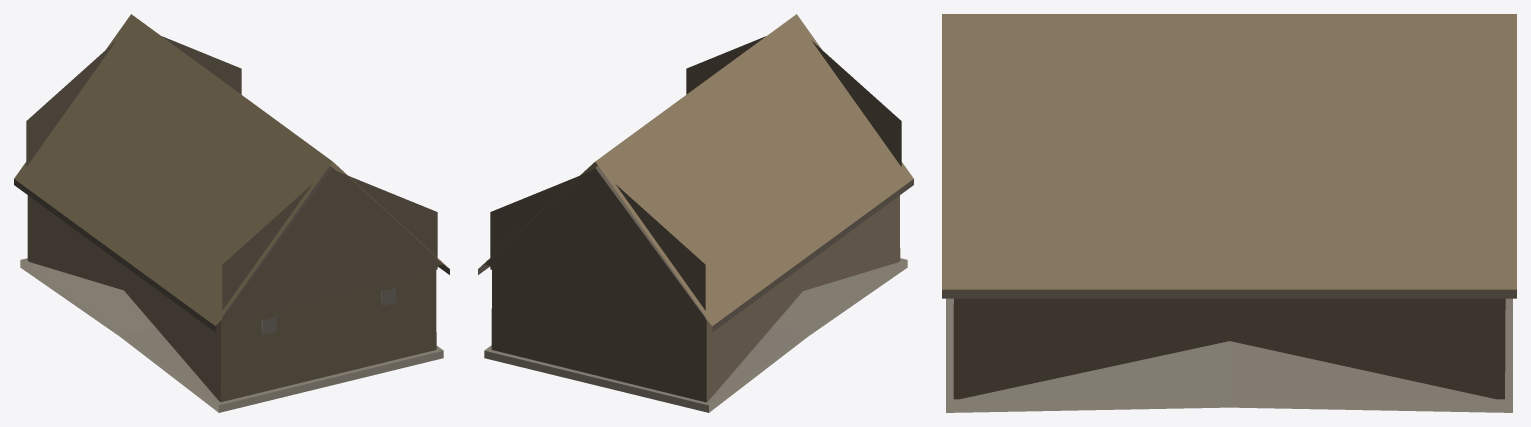
Rendered from fv_granary_barn.glb.
3 renders of one model, left to right at view 1: azimuth 30°, elevation 25°; view 2: azimuth 150°, elevation 25°; view 3: azimuth 270°, elevation 25°, orthographic. The views are drawn at different scales.
Visible parts, largest first — view 1: gr_roof.001, gr_wall.001, gr_footing.001, gr_gable_w.001, gr_gable_e.001; view 2: gr_roof.001, gr_wall.001, gr_footing.001, gr_gable_e.001, gr_gable_w.001; view 3: gr_roof.001, gr_wall.001, gr_footing.001.
Boxes of the visible parts, <box> form: gr_roof.001: <box>14,14,449,332</box>; gr_wall.001: <box>27,195,436,401</box>; gr_footing.001: <box>20,258,443,412</box>; gr_gable_w.001: <box>222,171,437,321</box>; gr_gable_e.001: <box>26,36,241,166</box>; gr_roof.001: <box>478,14,913,332</box>; gr_wall.001: <box>491,195,900,402</box>; gr_footing.001: <box>484,258,907,412</box>; gr_gable_e.001: <box>490,171,705,321</box>; gr_gable_w.001: <box>686,36,901,166</box>; gr_roof.001: <box>942,14,1516,298</box>; gr_wall.001: <box>953,298,1505,399</box>; gr_footing.001: <box>946,298,1512,412</box>.
Size of the model in its own units: 9.8 by 8.99 by 14.6.
